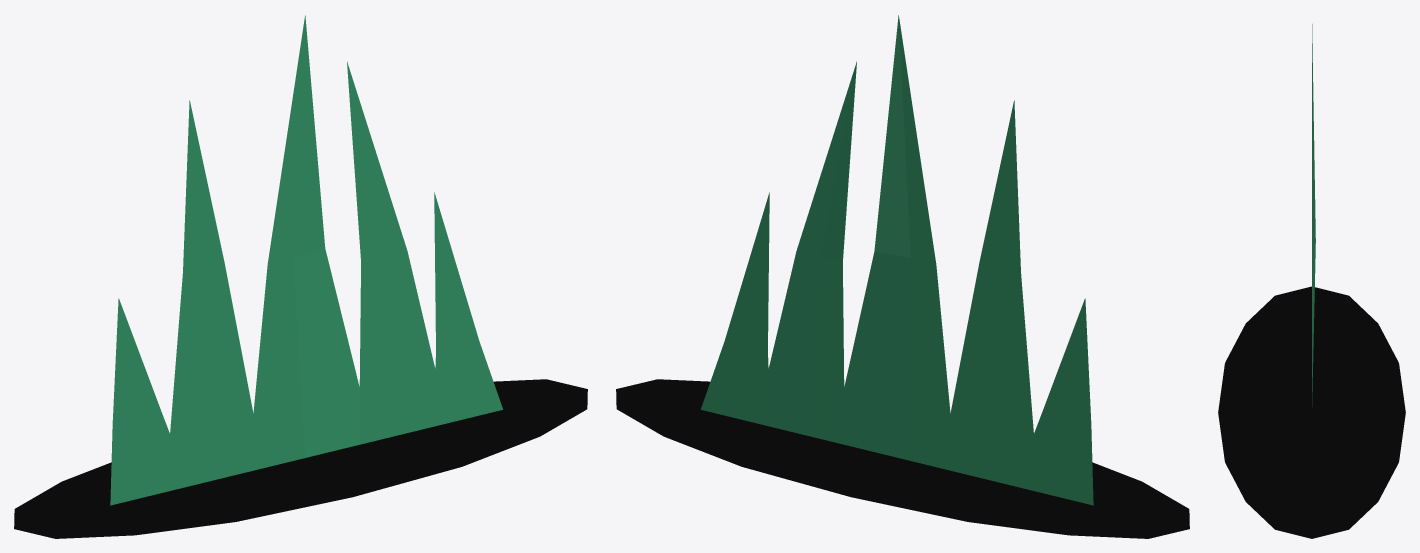
The model's file is Trawa2.fbx.
The picture shows the model from 3 angles, left to right: view 1: azimuth 30°, elevation 25°; view 2: azimuth 150°, elevation 25°; view 3: azimuth 270°, elevation 25°; orthographic projection. The views are drawn at different scales.
Visible parts, largest first — view 1: Plane.008; view 2: Plane.008; view 3: Plane.008.
Part boxes in pixels (bbox=[...]): Plane.008: bbox=[14, 15, 587, 538]; Plane.008: bbox=[616, 15, 1189, 538]; Plane.008: bbox=[1218, 24, 1405, 538].
Bounding box in the file's own units: 391 × 289 × 123.
